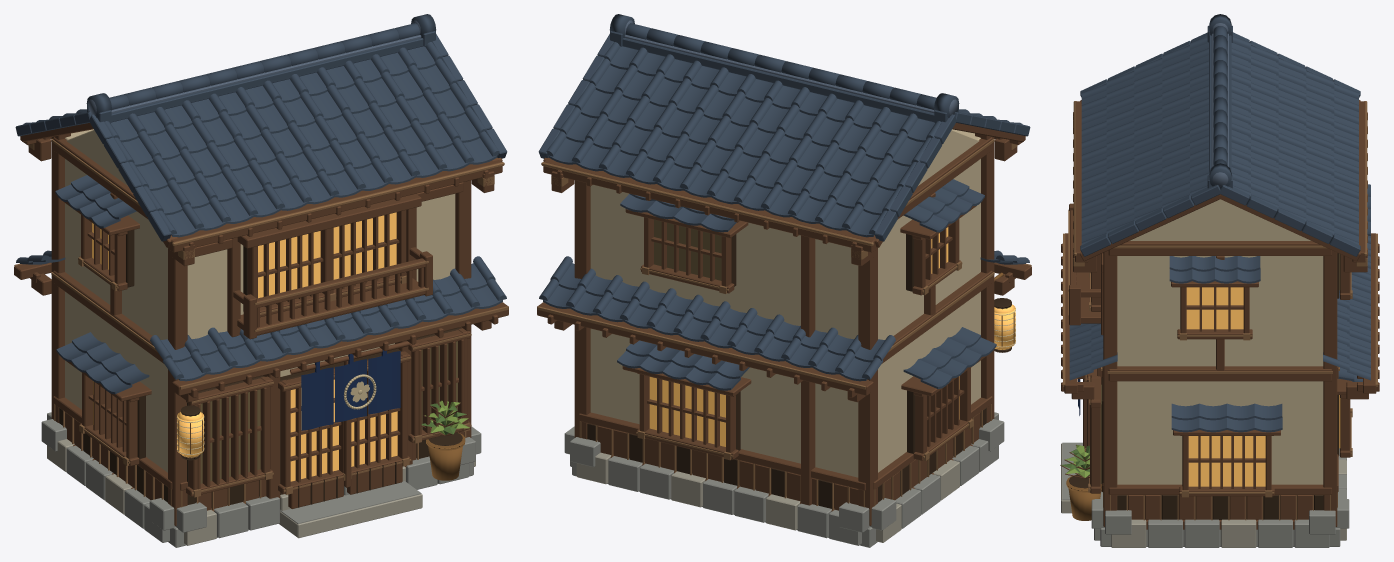
3 renders of one model, left to right at view 1: azimuth 30°, elevation 25°; view 2: azimuth 150°, elevation 25°; view 3: azimuth 270°, elevation 25°, orthographic. The views are drawn at different scales.
Visible parts, largest first — view 1: Kyoto_Machiya_Villa_2_geometry, Kyoto_Machiya_Villa_2_geometry ceramic; view 2: Kyoto_Machiya_Villa_2_geometry, Kyoto_Machiya_Villa_2_geometry ceramic; view 3: Kyoto_Machiya_Villa_2_geometry, Kyoto_Machiya_Villa_2_geometry ceramic.
Boxes of the visible parts, x1,y1,x2,y2 form: Kyoto_Machiya_Villa_2_geometry: (14, 123, 508, 547); Kyoto_Machiya_Villa_2_geometry ceramic: (15, 14, 507, 394); Kyoto_Machiya_Villa_2_geometry: (537, 123, 1031, 547); Kyoto_Machiya_Villa_2_geometry ceramic: (538, 14, 1030, 390); Kyoto_Machiya_Villa_2_geometry: (1060, 100, 1379, 547); Kyoto_Machiya_Villa_2_geometry ceramic: (1069, 14, 1370, 432).
Size of the model in its own units: 0.99 by 1.08 by 0.8099.
